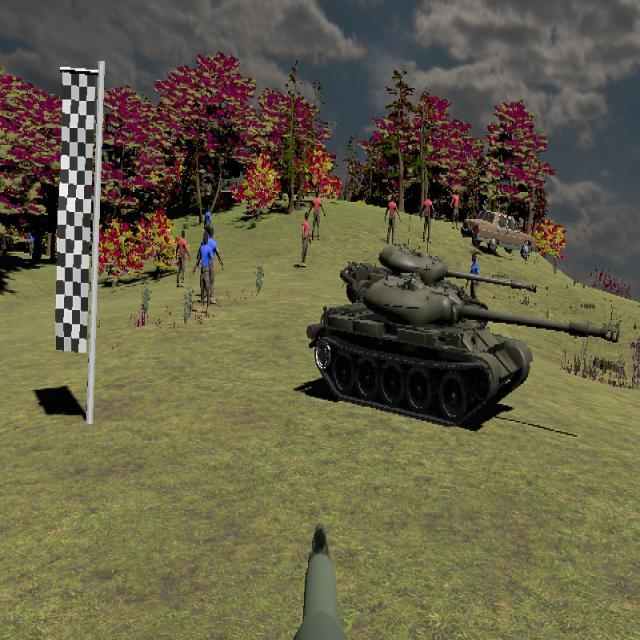Human: (193, 233, 215, 314), (203, 227, 224, 306), (175, 229, 191, 289), (309, 190, 325, 240)
Tank: (305, 274, 619, 428)
car: (461, 210, 539, 259)
